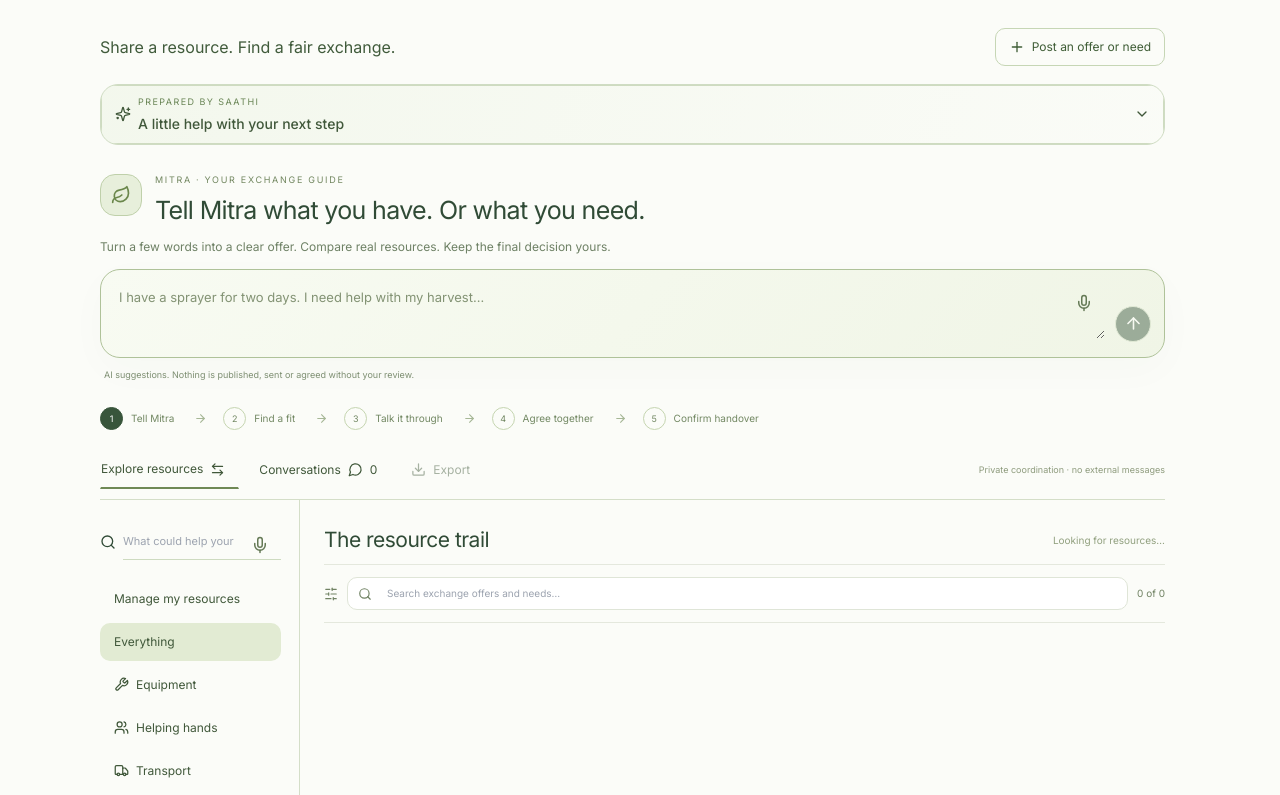
Scenario: Farmer exchange › moves Mitra's draft into editable fields without publishing
Type "I have a sprayer for two days" into the text box named "Ask exchange Mitra".
click(610, 310); type("I have a sprayer for two days")  # box [114,282,1105,339]
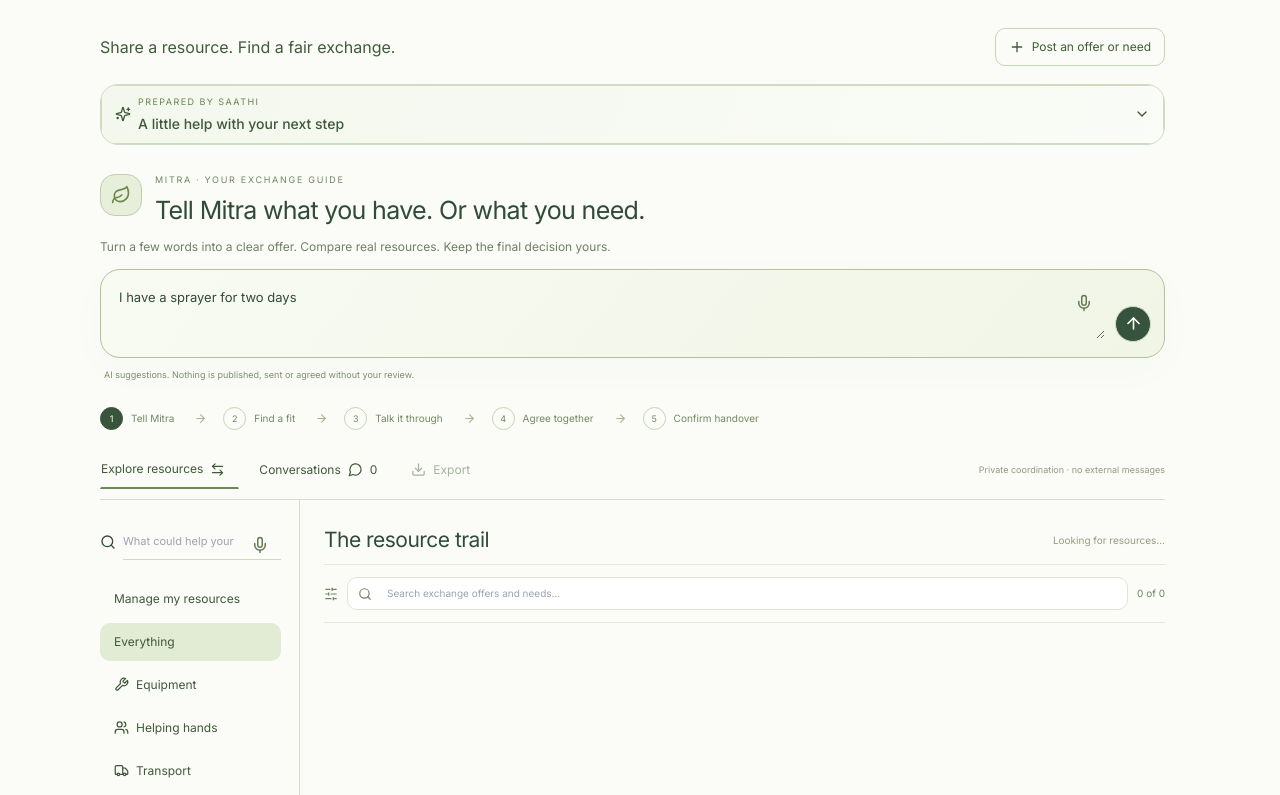
Click the button named "Ask Mitra".
click(1133, 324)  # box [1115,306,1151,342]
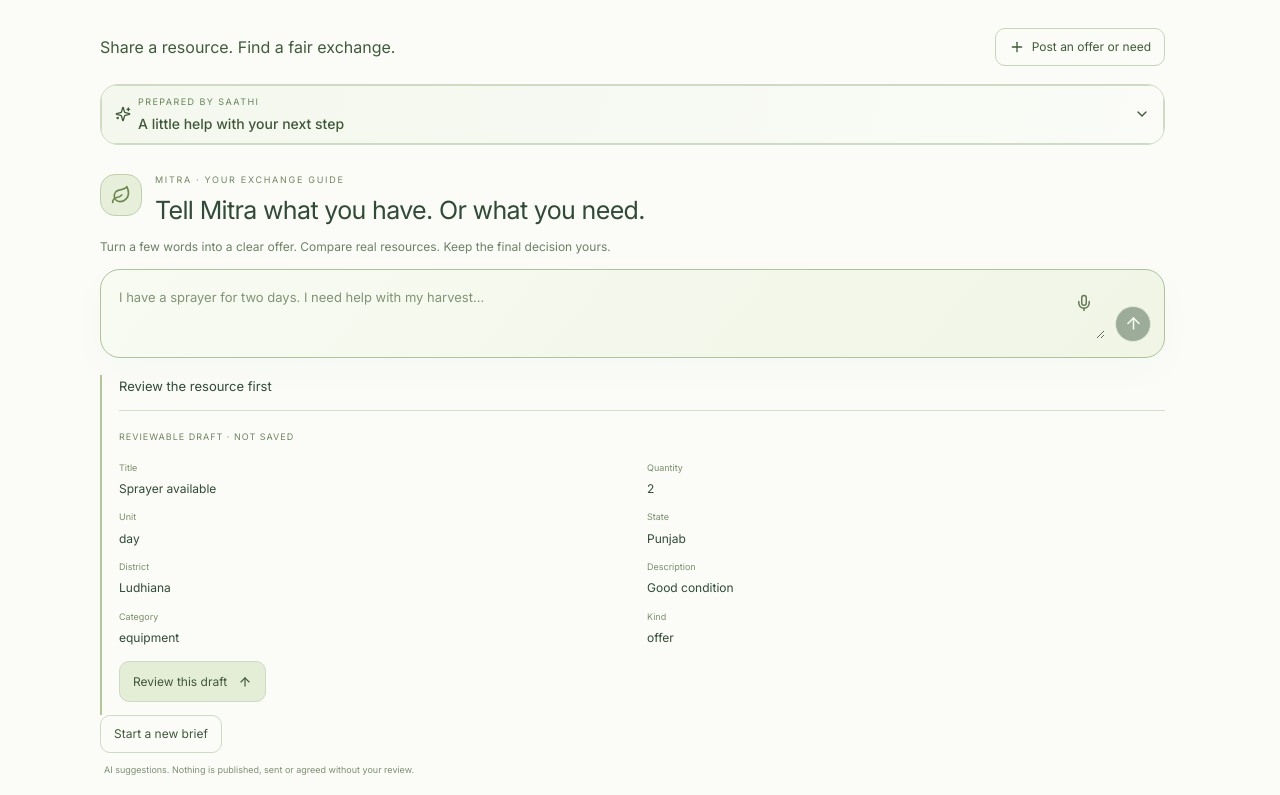
Click the button "Review this draft".
click(192, 682)  # box [119,661,266,702]
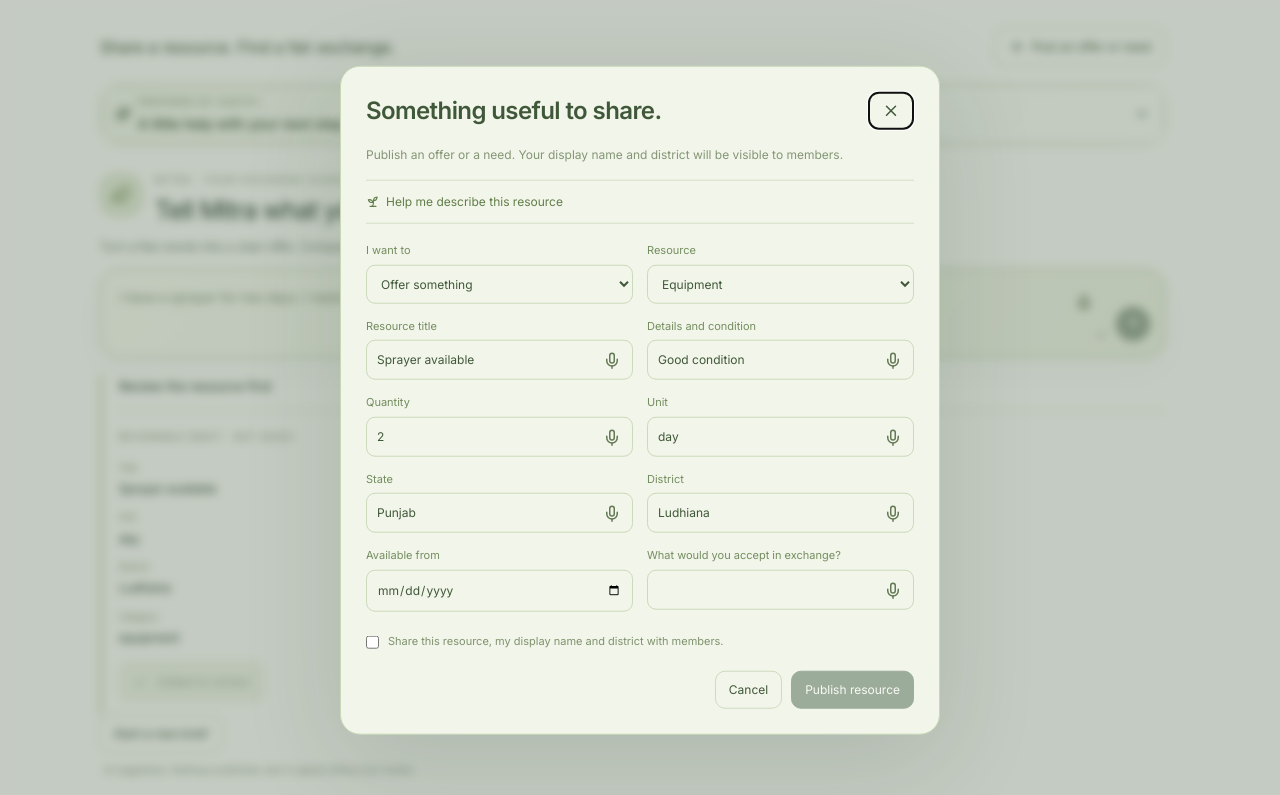
Expected: the field labelled "Resource title" holds "Sprayer available", [366,340,633,380]
Expected: the number field labelled "Quantity" holds "2", [366,417,633,457]
Expected: the button "Publish resource" is disabled, [791,670,914,708]
